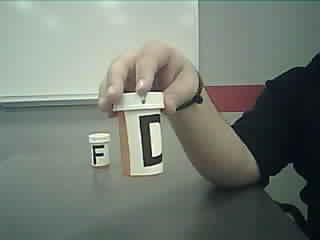Bottle D: (115, 84, 173, 184)
Bottle F: (88, 130, 112, 173)
